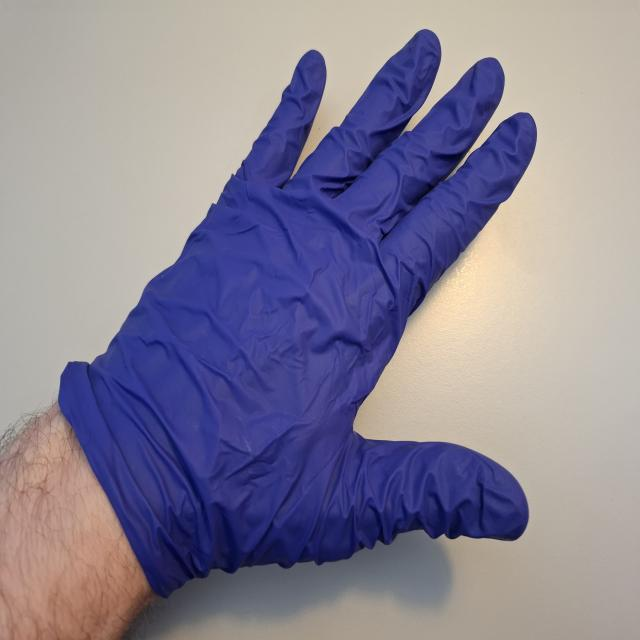glove_on: (57, 26, 541, 602)
